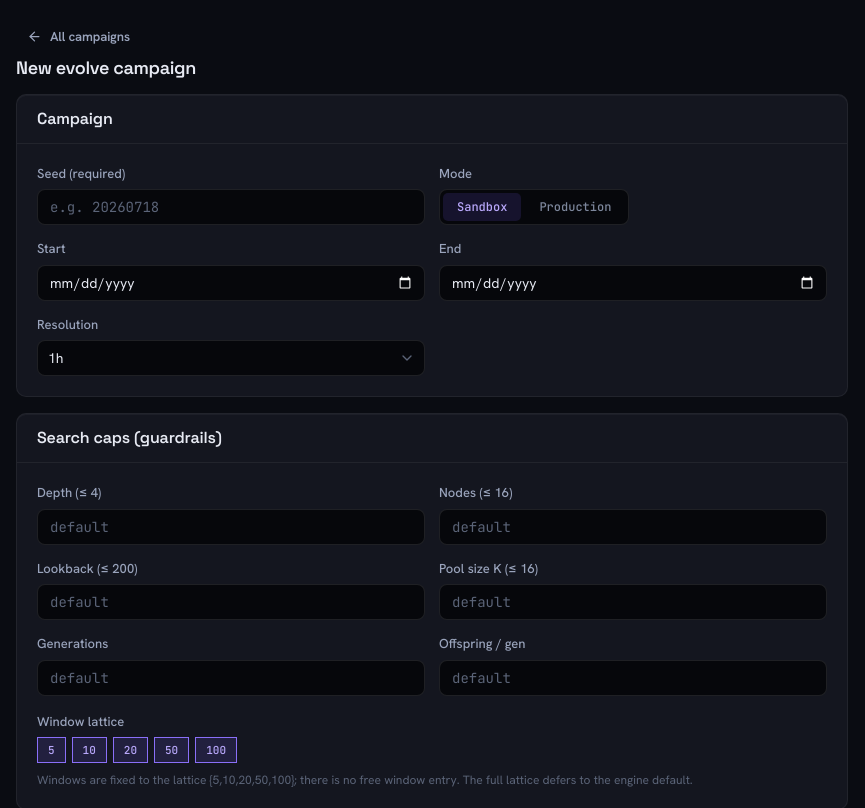
Test: NewCampaign › blocks submit on a client-side cap violation (nodes > 16) — mirrors validate_evolve
In the field labelled "Seed (required)": (231, 207) [48, 190, 414, 224], type "7"
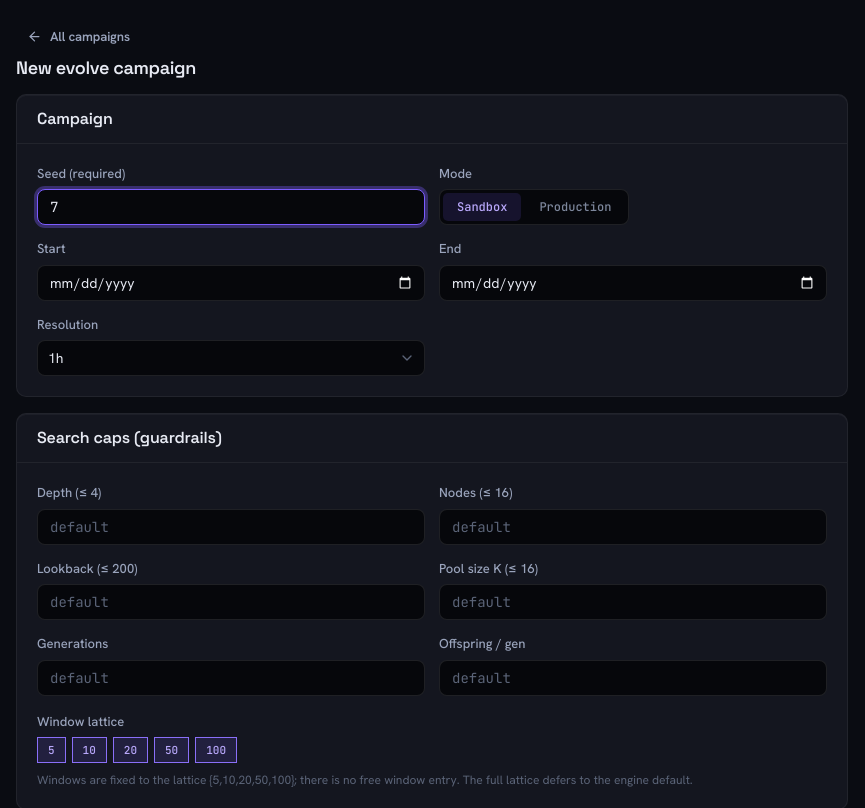
In the date field labelled "Start": (231, 283) [48, 266, 414, 300], type "2021-01-01"
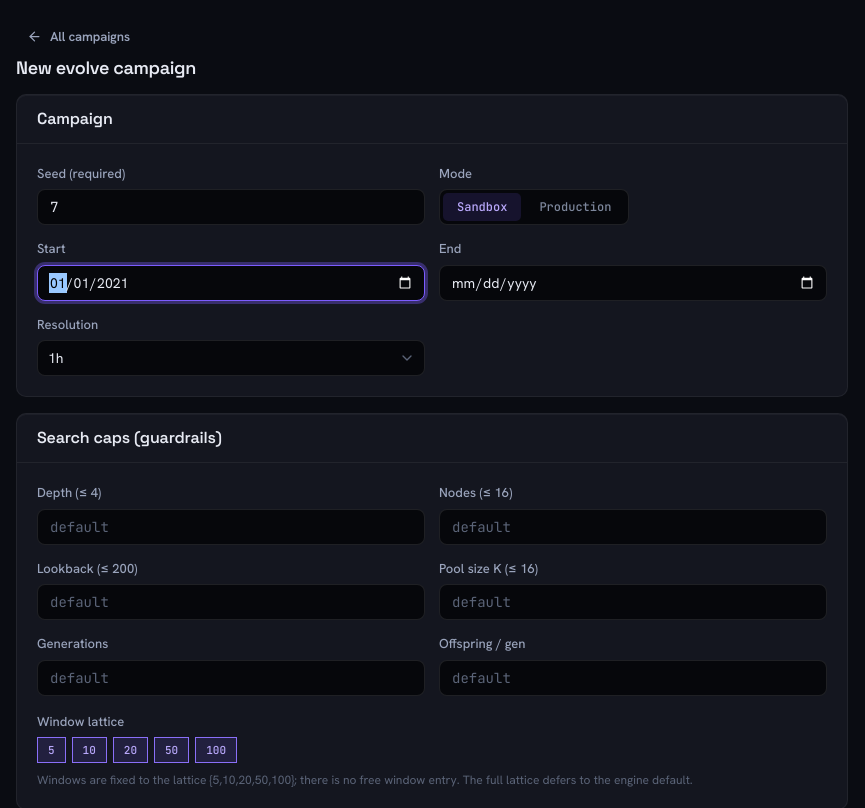
In the date field labelled "End": (633, 283) [450, 266, 816, 300], type "2021-02-01"
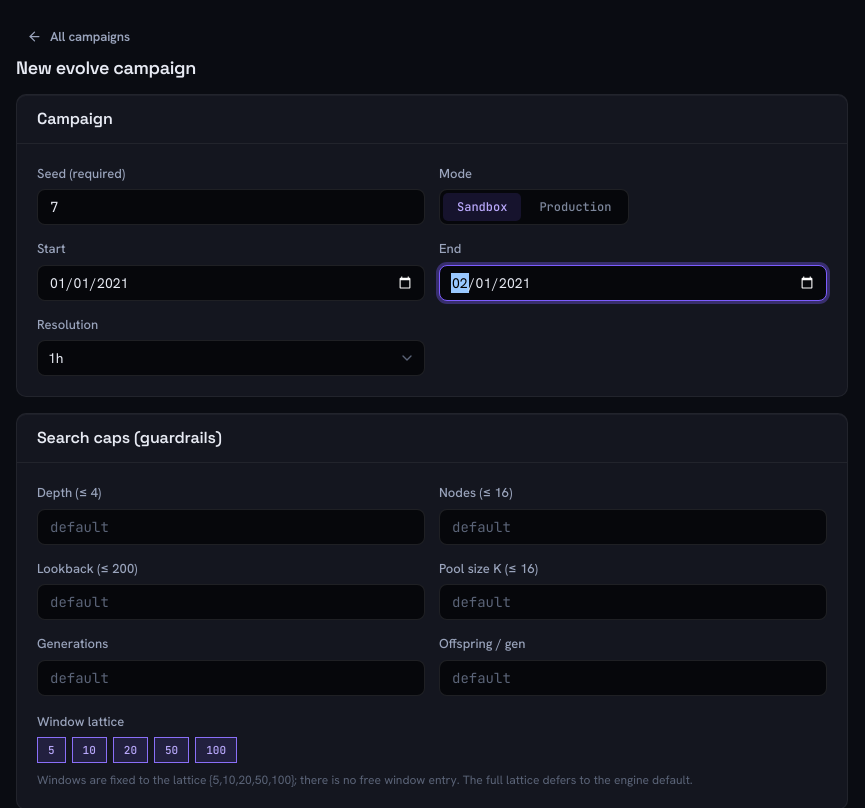
In the field labelled "Nodes (≤ 16)": (633, 527) [450, 510, 816, 544], type "99"
(page scrolled)
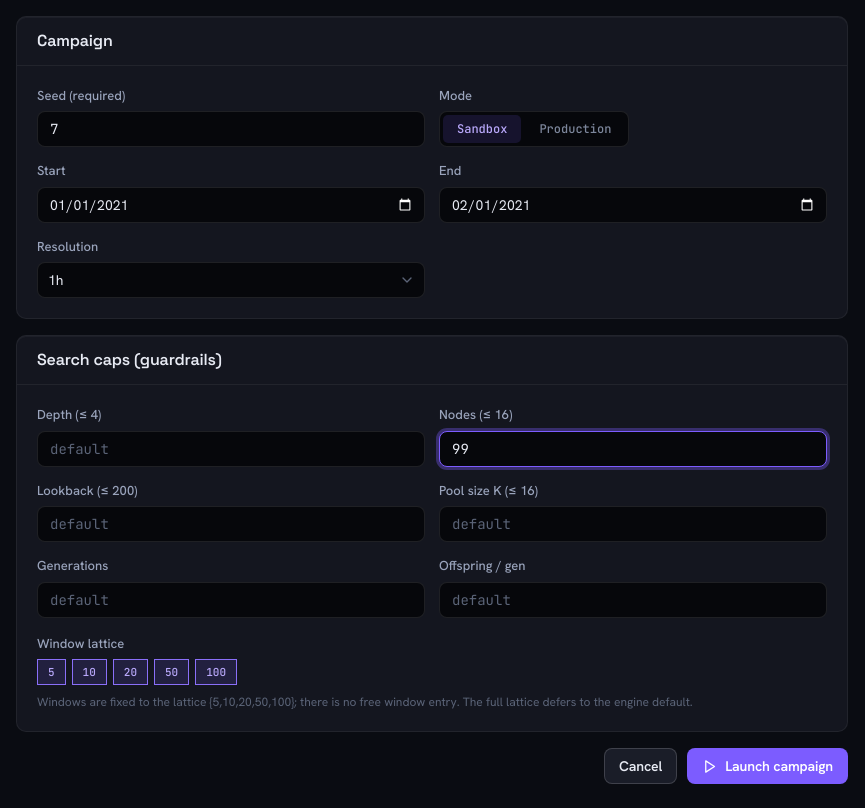
Click the button "Launch campaign": (768, 766) [687, 748, 848, 784]
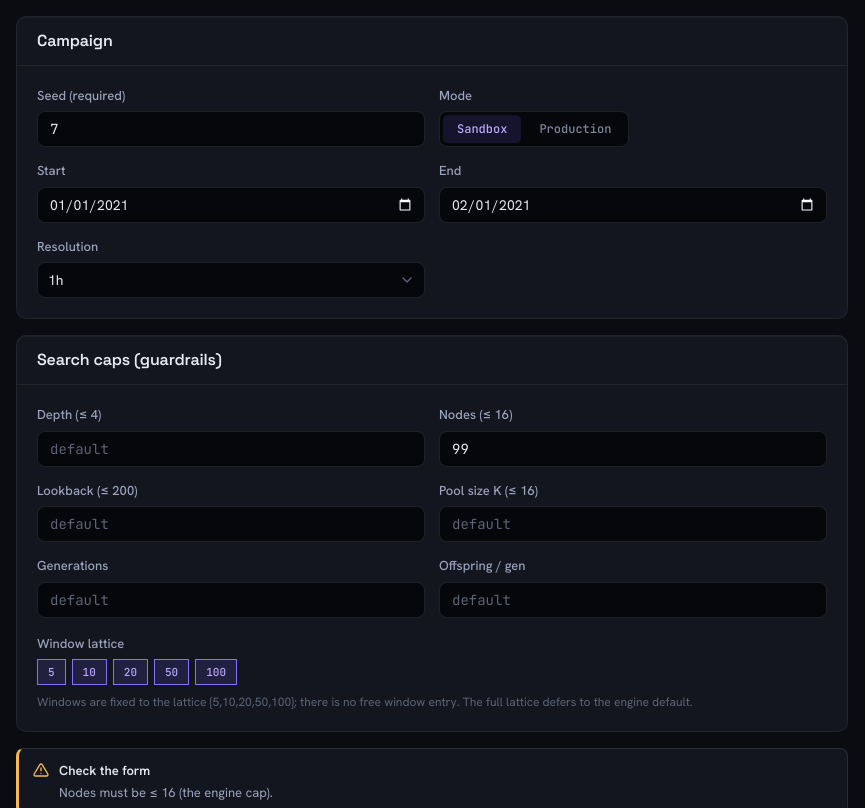
Now the text "Check the form Nodes must be ≤ 16 (the engine cap)." is shown, box [59, 761, 273, 802]
